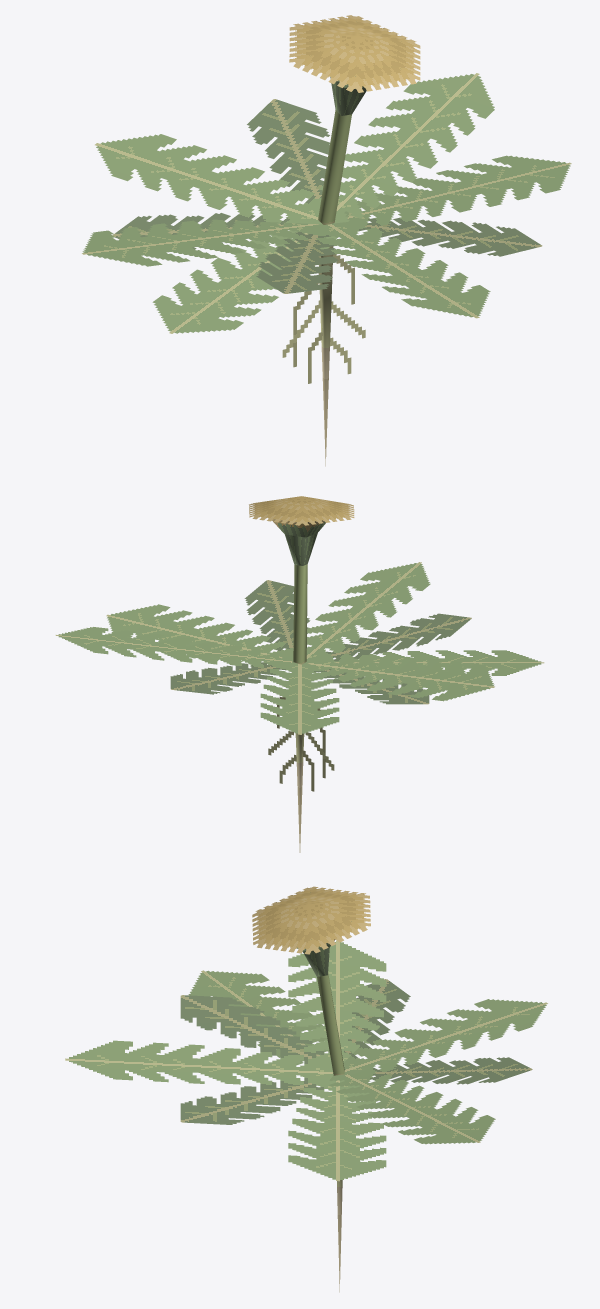
The model's file is 04dc_Dandelion.glb.
The picture shows the model from 3 angles, top to bottom: view 1: azimuth 30°, elevation 25°; view 2: azimuth 150°, elevation 25°; view 3: azimuth 270°, elevation 25°; orthographic projection. The views are drawn at different scales.
Visible parts, largest first — view 1: part_0; view 2: part_0; view 3: part_0.
Part boxes in pixels (bbox=[...]): part_0: bbox=[82, 15, 571, 466]; part_0: bbox=[55, 496, 544, 852]; part_0: bbox=[65, 886, 547, 1292].
Bounding box in the file's own units: 0.2484 × 0.1812 × 0.237.
Materials: 1 (1 with a texture image).
